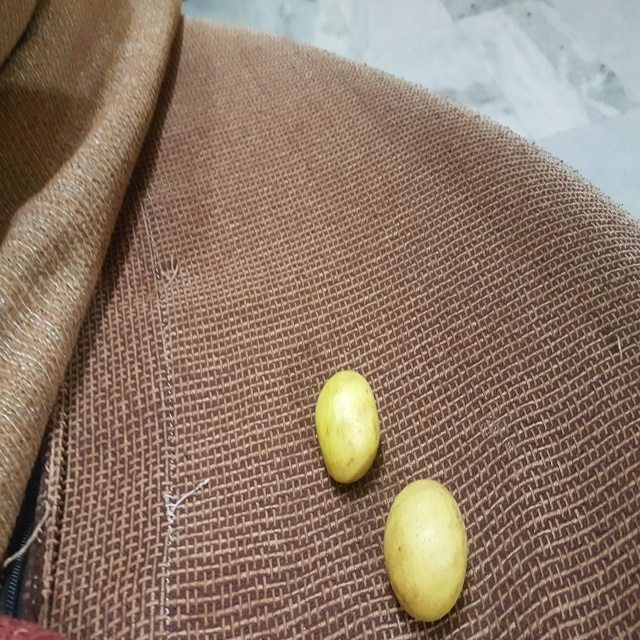lemon: (382, 474, 472, 638), (303, 363, 391, 486)
